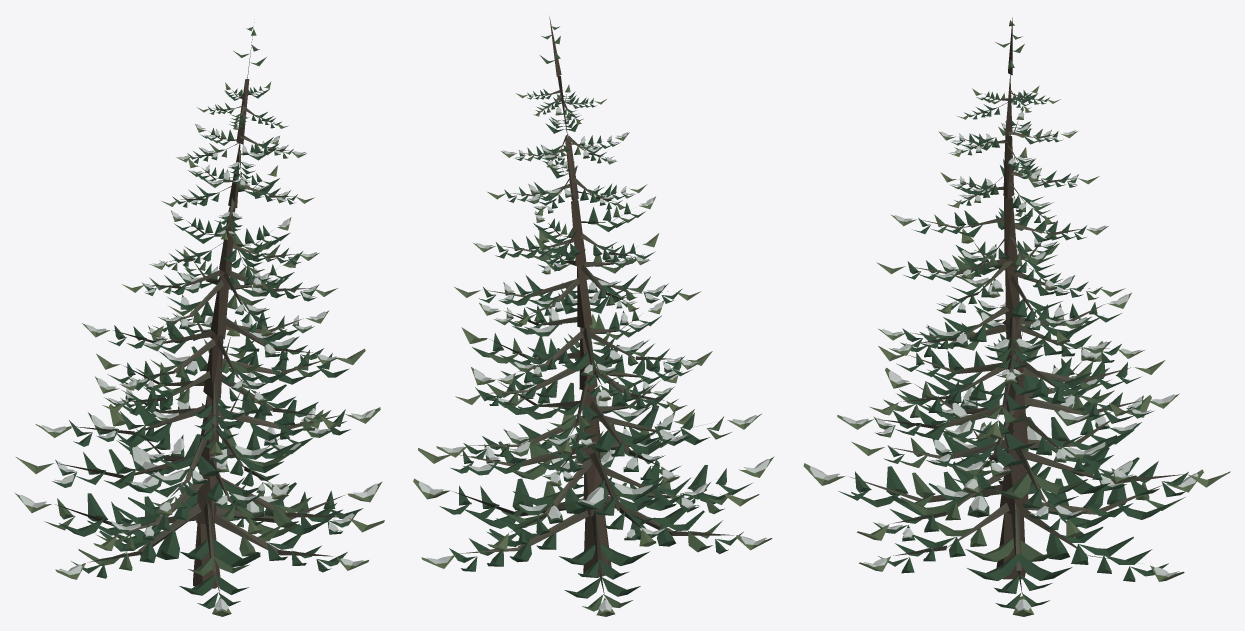
File: spruce_windswept.glb
3 views of the same model, side by side, from view 1: azimuth 30°, elevation 25°; view 2: azimuth 150°, elevation 25°; view 3: azimuth 270°, elevation 25° (orthographic). The views are drawn at different scales.
Parts seen in each view (by area): view 1: spruce_windswept; view 2: spruce_windswept; view 3: spruce_windswept.
Boxes of the visible parts, x1,y1,x2,y2 form: spruce_windswept: (14, 22, 384, 616); spruce_windswept: (413, 16, 774, 616); spruce_windswept: (803, 17, 1230, 616).
Size of the model in its own units: 2.22 by 3.42 by 2.26.
